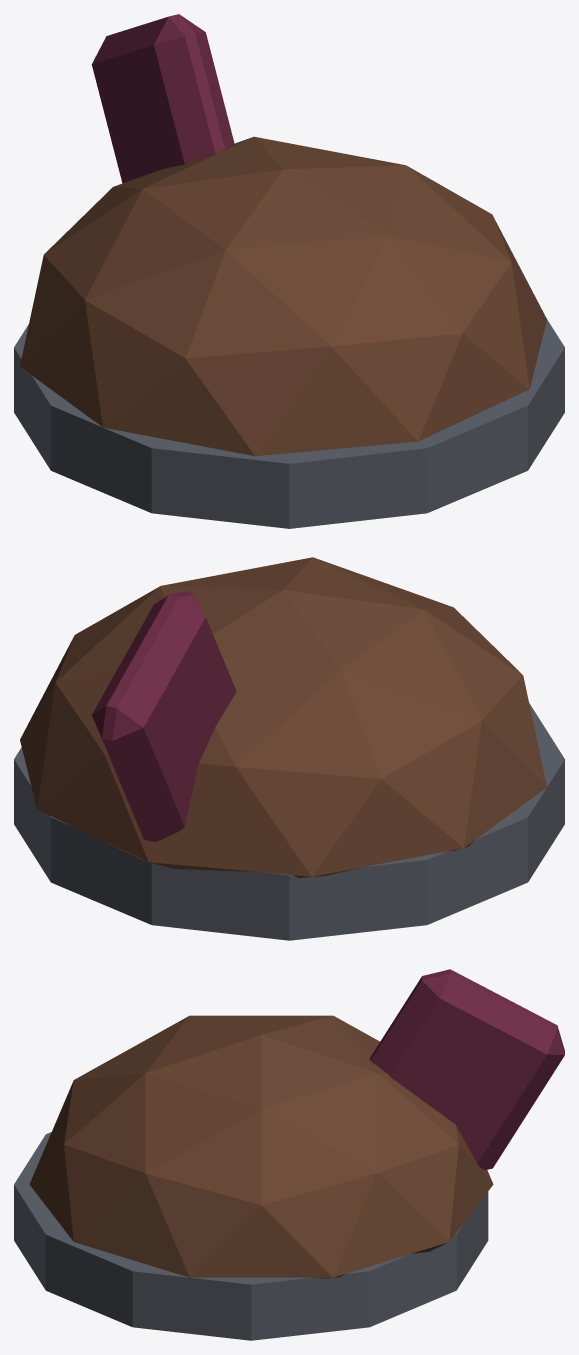
The model's file is Cap.fbx.
3 renders of one model, top to bottom at view 1: azimuth 30°, elevation 25°; view 2: azimuth 150°, elevation 25°; view 3: azimuth 270°, elevation 25°, orthographic. The views are drawn at different scales.
Visible parts, largest first — view 1: Cap__head; view 2: Cap__head; view 3: Cap__head.
Part boxes in pixels (x1=…): Cap__head: x1=14, y1=14, x2=564, y2=528; Cap__head: x1=14, y1=557, x2=564, y2=940; Cap__head: x1=14, y1=969, x2=564, y2=1340.
Bounding box in the file's own units: 0.46 × 0.2879 × 0.5343.
